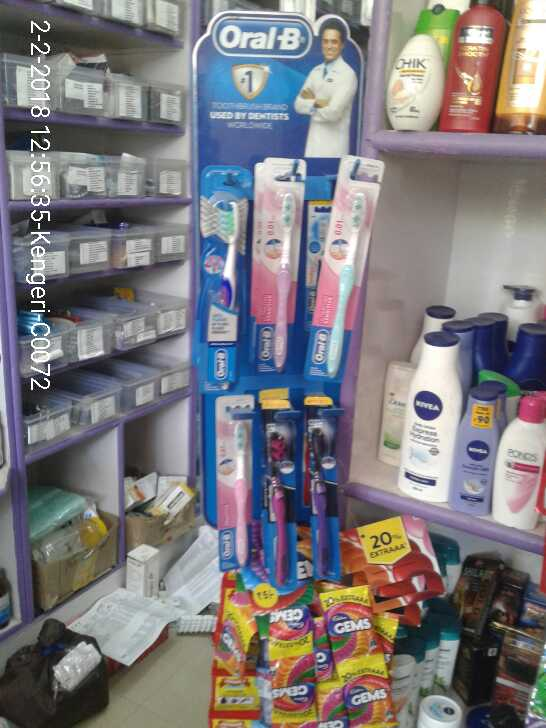oralb: (322, 147, 376, 379), (248, 158, 308, 365), (205, 181, 245, 389), (302, 418, 343, 577), (259, 426, 294, 587), (216, 423, 253, 565)
